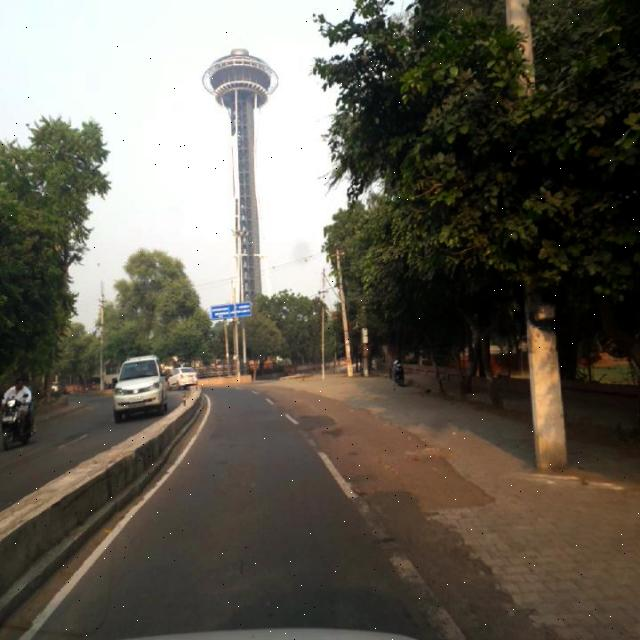D44: (309, 426, 385, 532), (386, 532, 461, 638)
